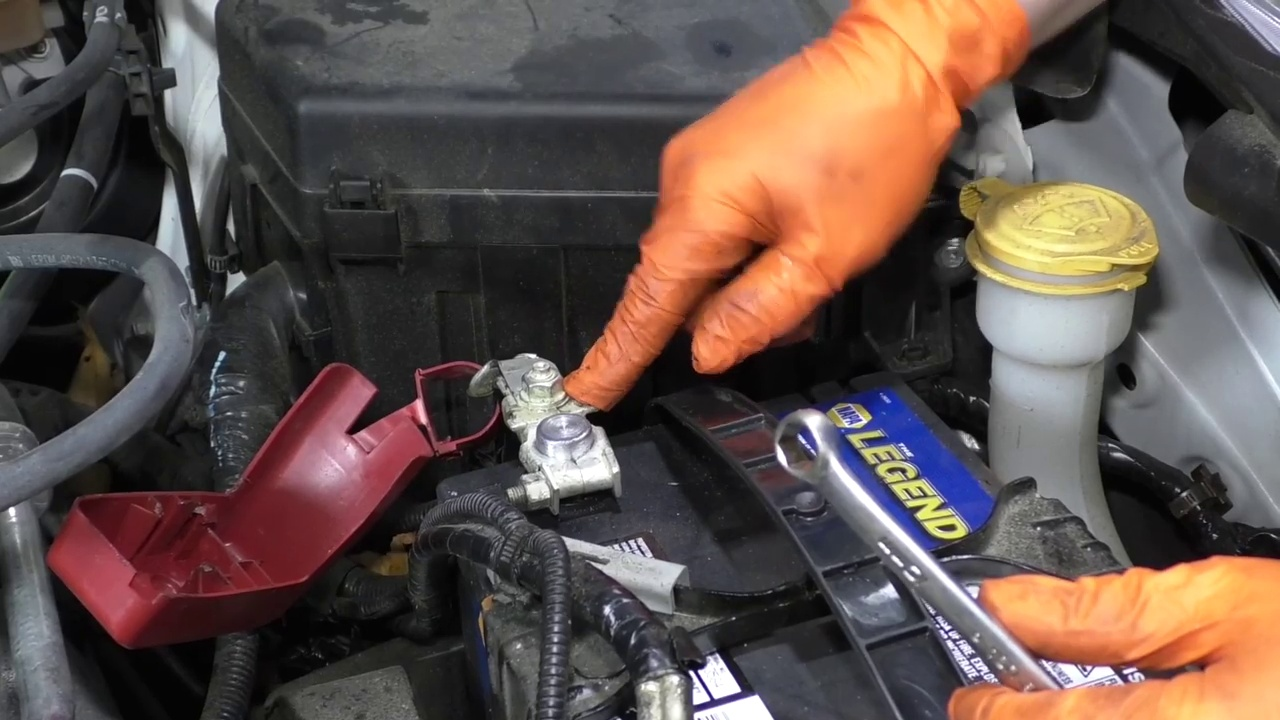battery: (442, 366, 1173, 720)
pos_connected: (285, 330, 651, 526)
pos_touched: (465, 231, 756, 513)
